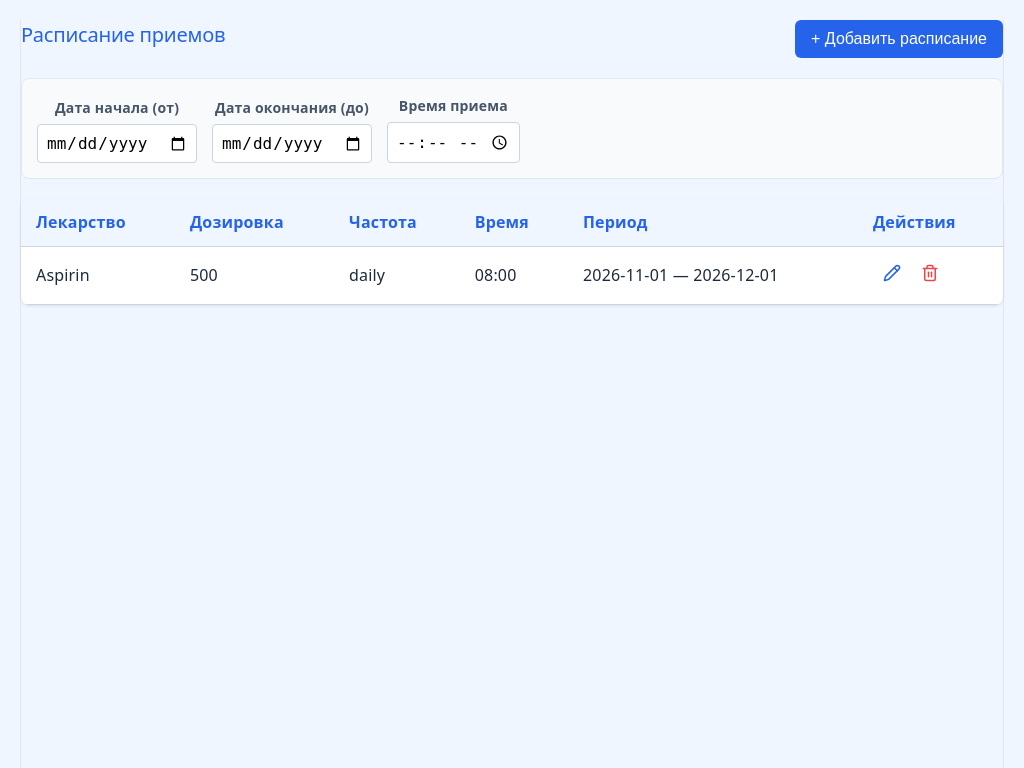
Schedules › фильтрует по времени
Expected: the text "Aspirin" is shown, [21, 247, 175, 305]
Type "08:00" into the time field labelled "Время приема" at (453, 143), box [387, 122, 520, 163]
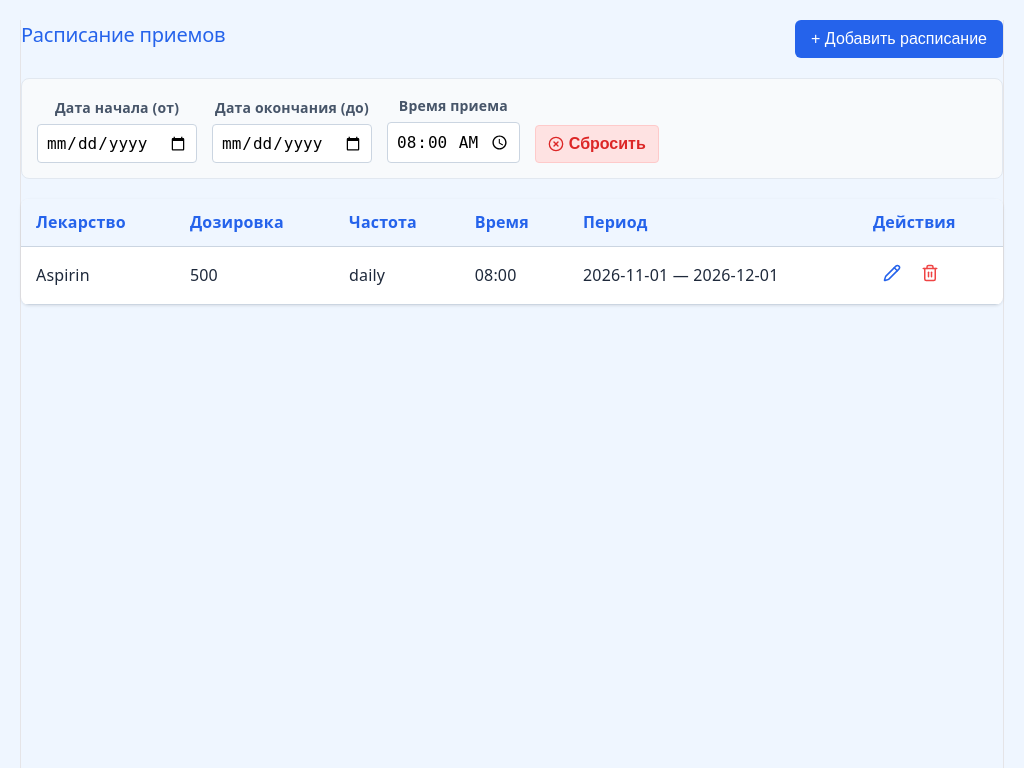
Expected: the text "Aspirin" is shown, [21, 247, 175, 305]
Replace the text in the time field labelled "Время приема" with "23:00" at (453, 143), box [387, 122, 520, 163]
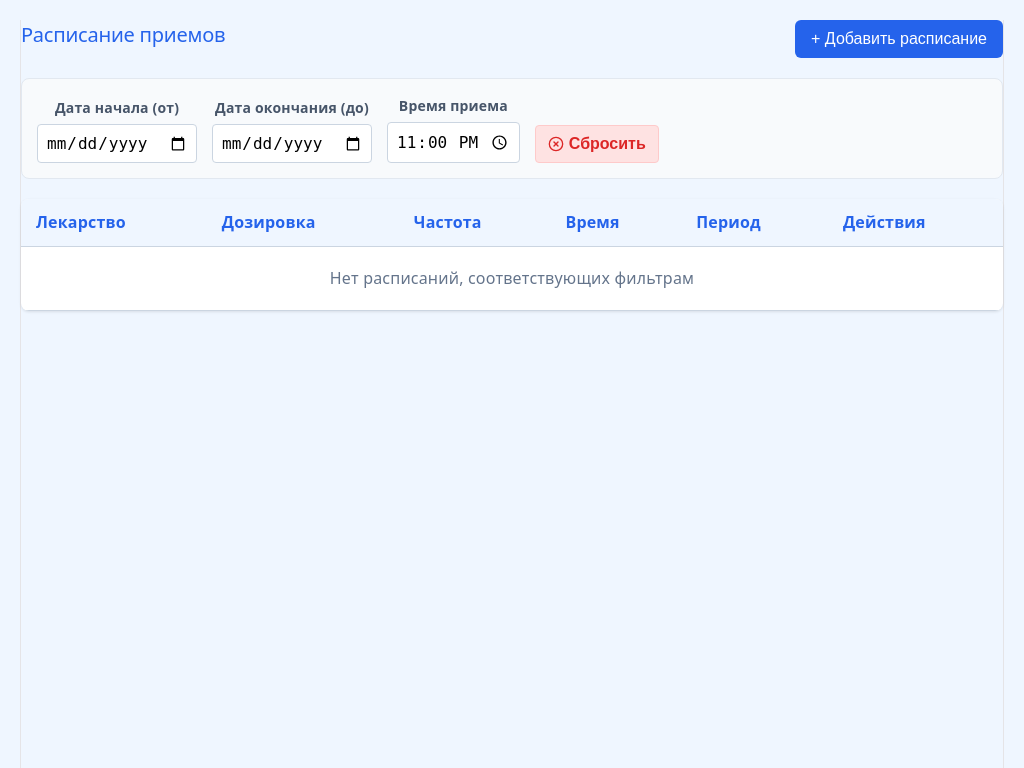
Now the text "Aspirin" is gone
